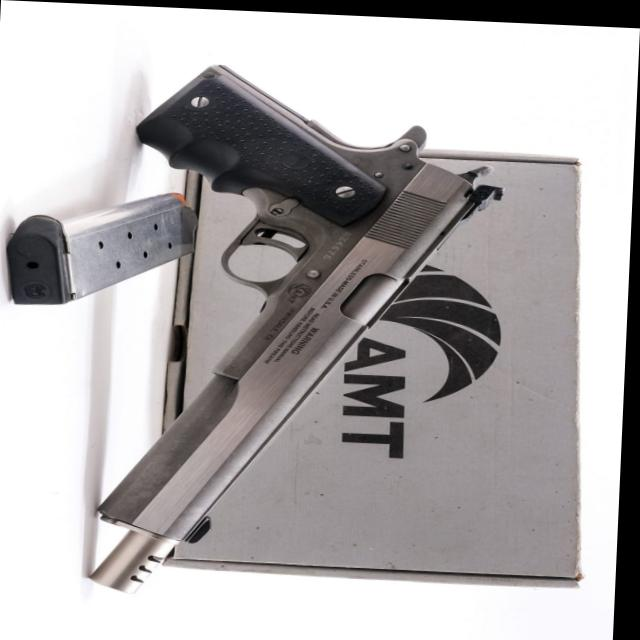handgun: (90, 58, 510, 601)
